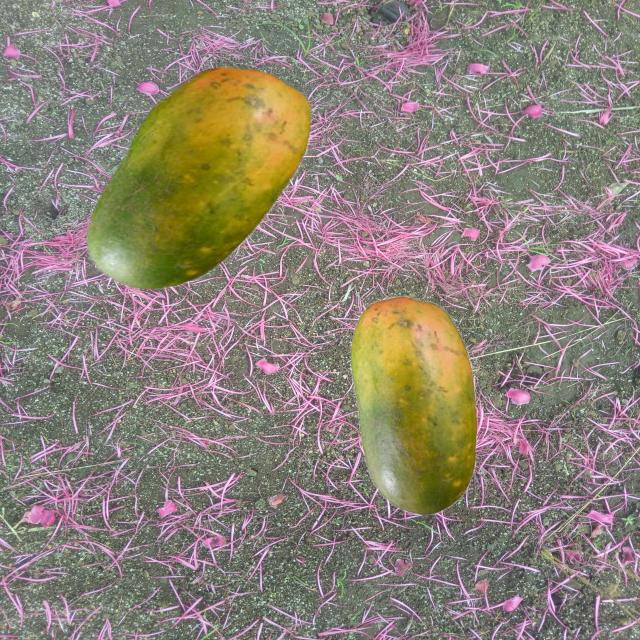Pepaya rippen: (81, 60, 301, 303), (352, 296, 484, 510)
